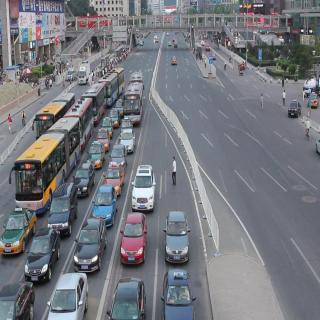BigCar: (14, 116, 80, 209), (124, 80, 148, 126), (78, 61, 90, 86)
Car: (161, 266, 196, 320), (1, 269, 37, 320), (110, 272, 148, 320), (75, 218, 106, 274), (163, 210, 194, 260), (56, 269, 85, 320), (119, 211, 144, 256), (5, 205, 31, 248), (135, 163, 156, 216), (51, 186, 74, 233), (31, 228, 55, 272), (74, 158, 94, 195), (104, 155, 121, 198), (95, 183, 114, 220), (117, 124, 137, 157), (288, 97, 301, 120), (67, 68, 75, 84), (170, 55, 178, 68)
